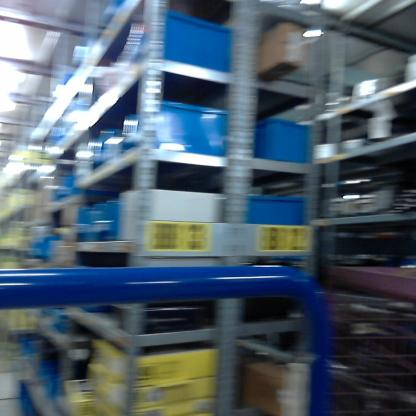stillage: (315, 257, 415, 416)
